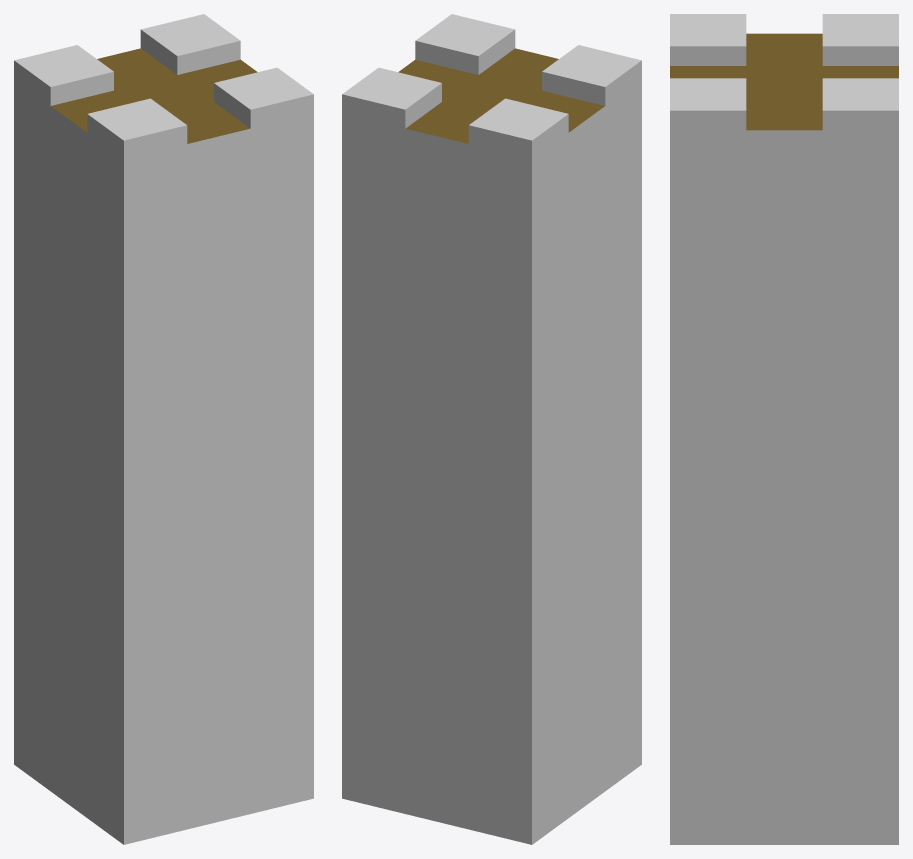
The model's file is Brick_Wall_Cross2.fbx.
3 renders of one model, left to right at view 1: azimuth 30°, elevation 25°; view 2: azimuth 150°, elevation 25°; view 3: azimuth 270°, elevation 25°, orthographic. The views are drawn at different scales.
Visible parts, largest first — view 1: Brick_Wall_Cross2; view 2: Brick_Wall_Cross2; view 3: Brick_Wall_Cross2.
Boxes of the visible parts, bbox=[...] form: Brick_Wall_Cross2: bbox=[14, 14, 313, 844]; Brick_Wall_Cross2: bbox=[342, 14, 641, 844]; Brick_Wall_Cross2: bbox=[670, 14, 898, 844].
Bounding box in the file's own units: 200 × 708 × 200.
